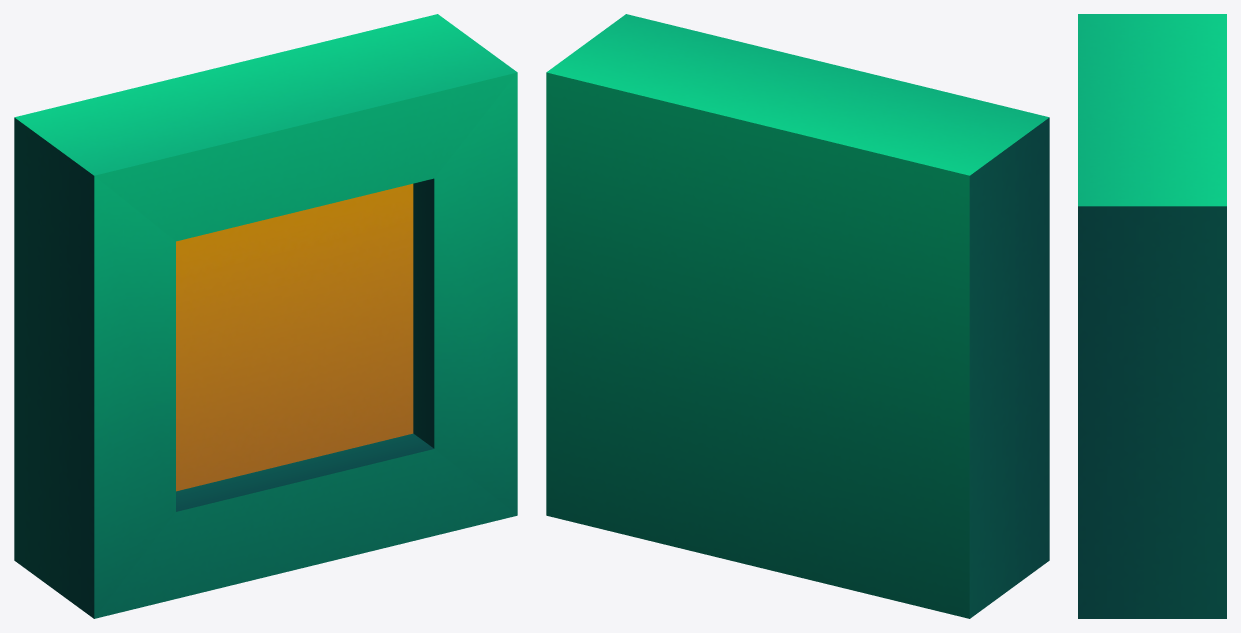
Rendered from DoorCheck.fbx.
3 renders of one model, left to right at view 1: azimuth 30°, elevation 25°; view 2: azimuth 150°, elevation 25°; view 3: azimuth 270°, elevation 25°, orthographic. The views are drawn at different scales.
Visible parts, largest first — view 1: DoorCheck; view 2: DoorCheck; view 3: DoorCheck.
Part boxes in pixels (<box>): DoorCheck: <box>14,14,517,618</box>; DoorCheck: <box>546,14,1049,618</box>; DoorCheck: <box>1078,14,1226,618</box>.
Bounding box in the file's own units: 1.45 × 0.4725 × 1.45.
